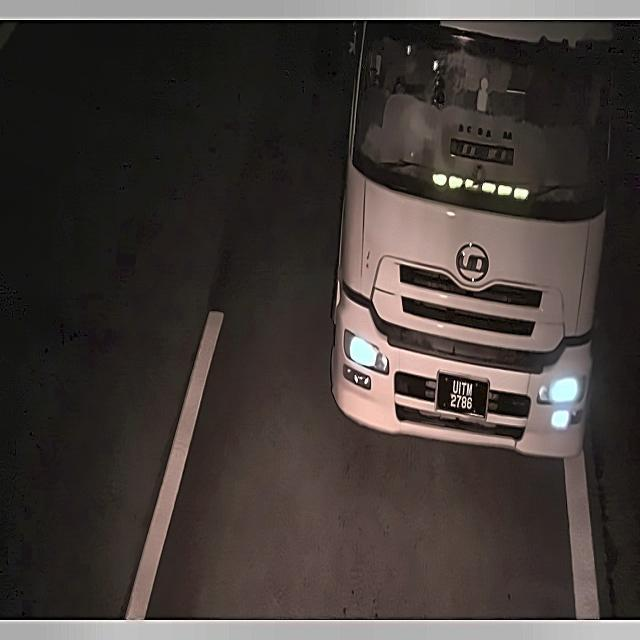car: (438, 370, 486, 421)
